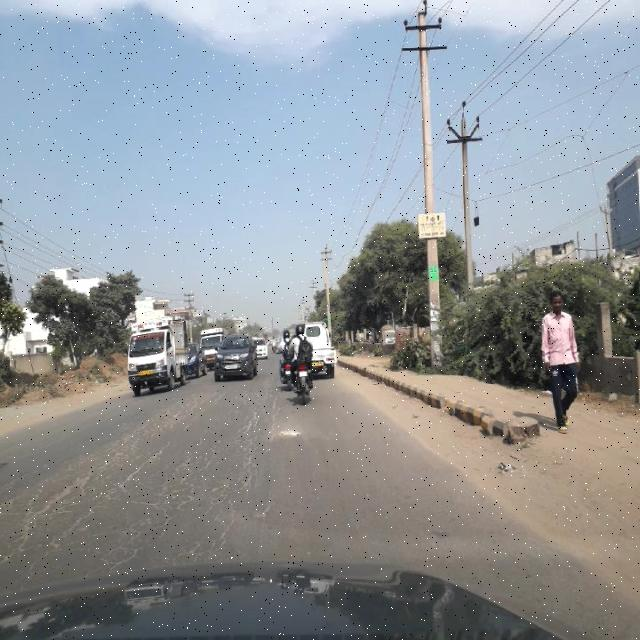D20: (46, 401, 281, 487), (1, 488, 235, 574)
